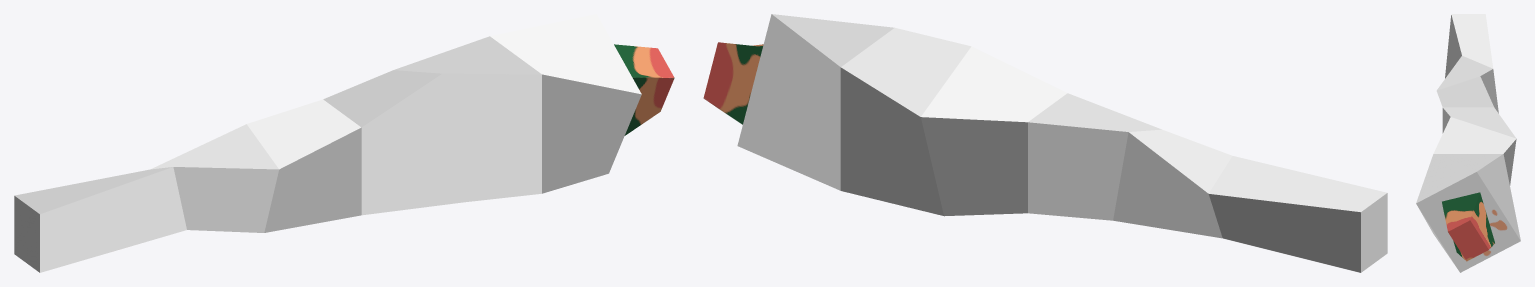
File: PT_joint.FBX
3 renders of one model, left to right at view 1: azimuth 30°, elevation 25°; view 2: azimuth 150°, elevation 25°; view 3: azimuth 270°, elevation 25°, orthographic. The views are drawn at different scales.
Parts seen in each view (by area): view 1: Box143; view 2: Box143; view 3: Box143.
Boxes of the visible parts, x1,y1,x2,y2 form: Box143: [14, 14, 674, 272]; Box143: [703, 14, 1387, 272]; Box143: [1416, 14, 1520, 272].
Size of the model in its own units: 15.68 by 3.57 by 3.36.
1 material, 1 textured.
